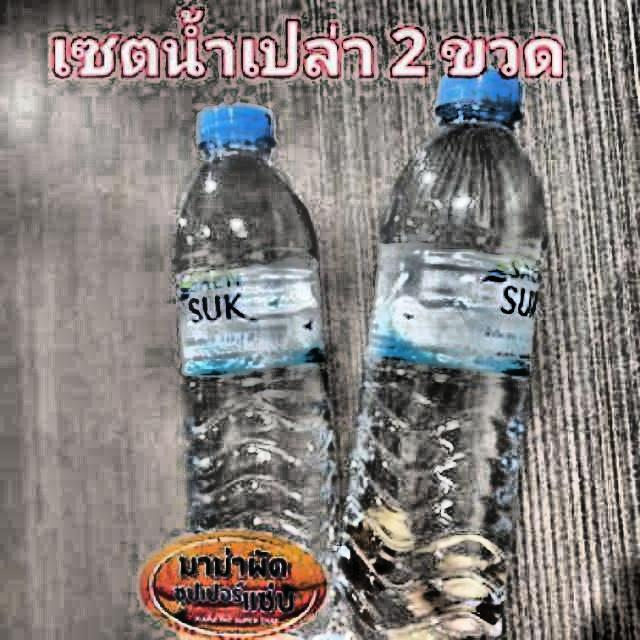Bottles: (334, 63, 558, 640), (146, 92, 338, 640)
